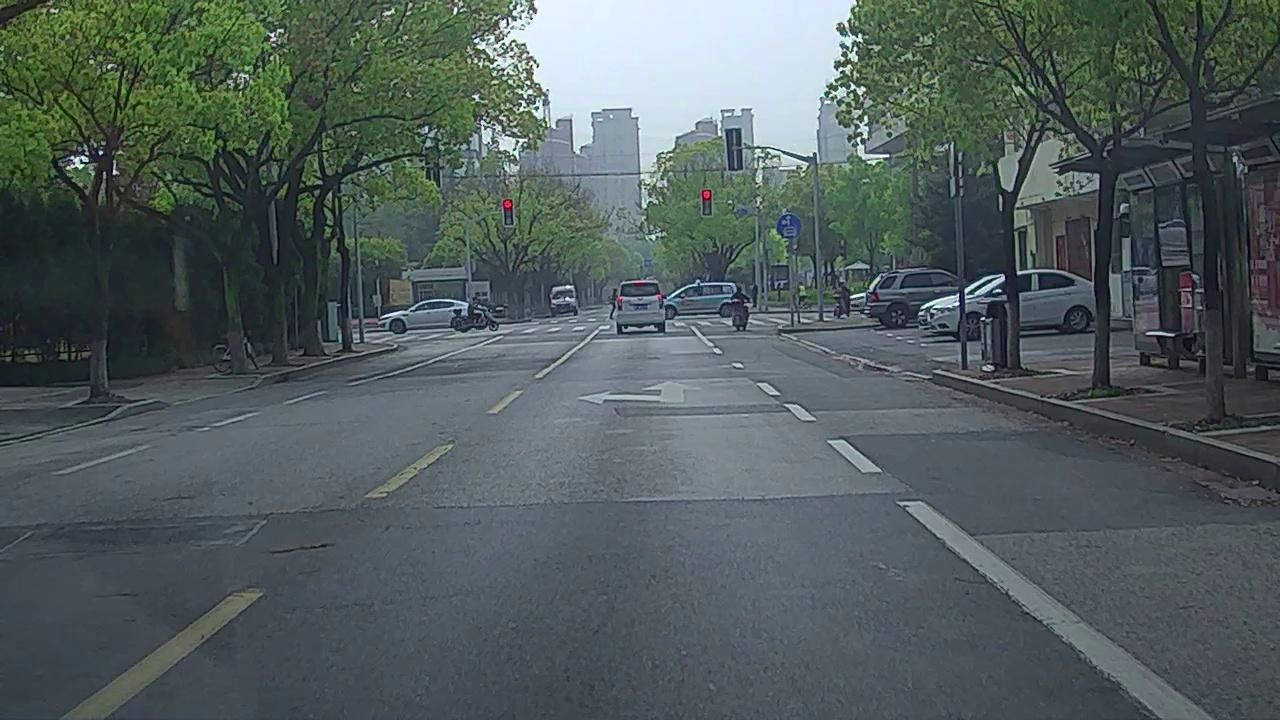traffic_light: (502, 199, 514, 226), (701, 191, 712, 215)
